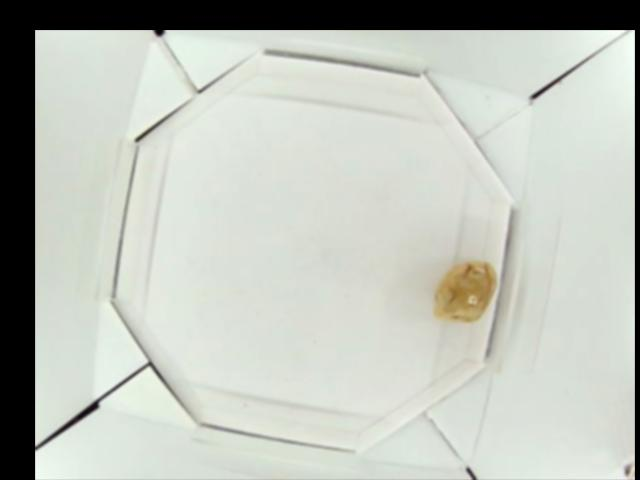Pebble: (431, 257, 495, 319)
